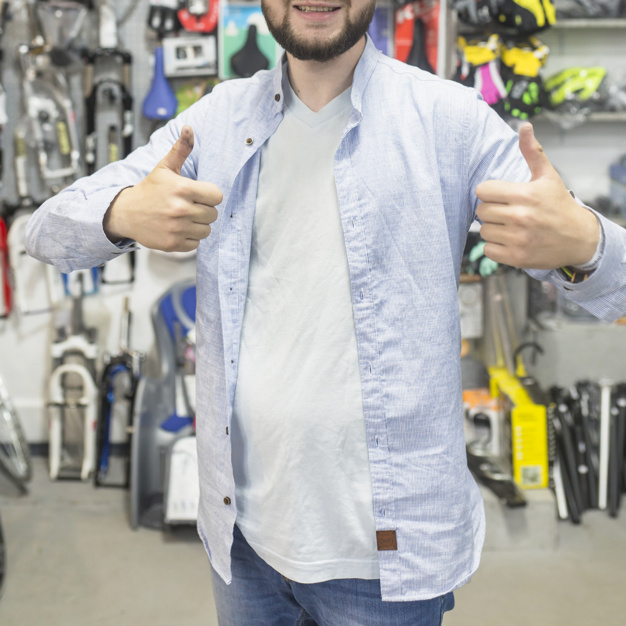thumbsup: (476, 122, 548, 266), (154, 124, 223, 252)
